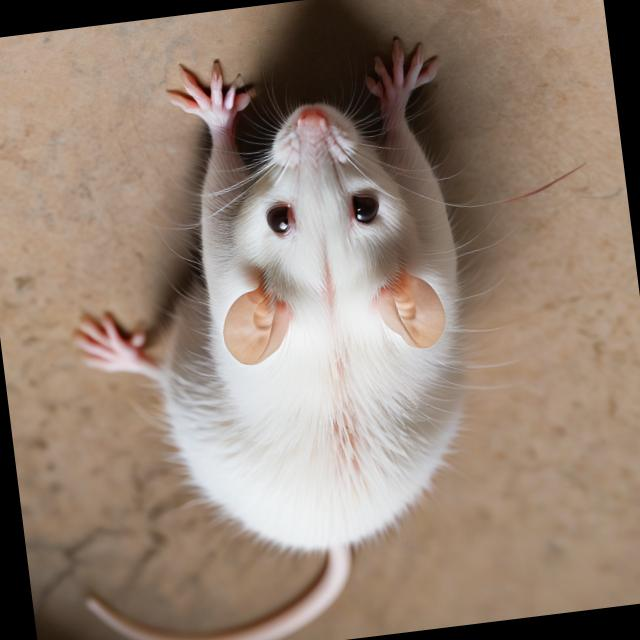rodent: (118, 55, 516, 588)
